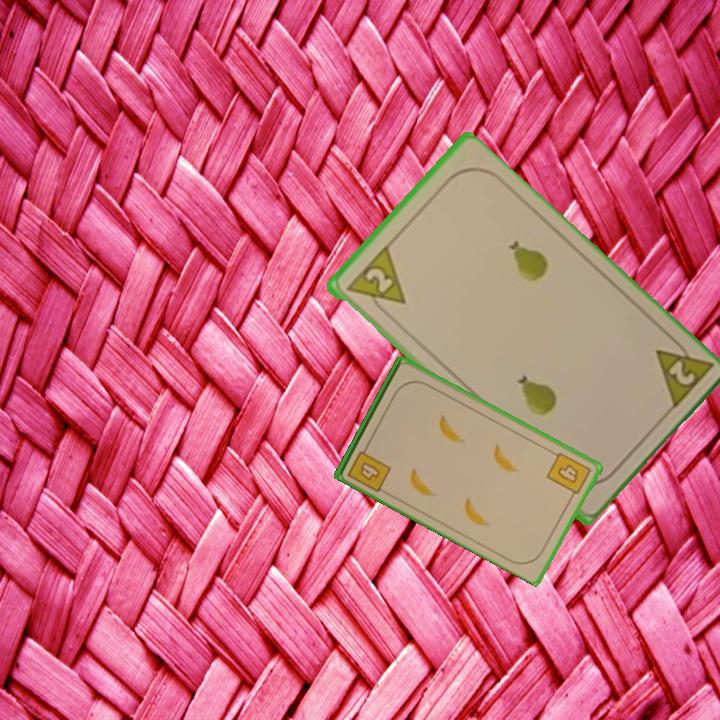2p: (650, 330, 714, 414), (342, 243, 408, 320)
4b: (543, 448, 594, 502), (344, 440, 394, 495)
